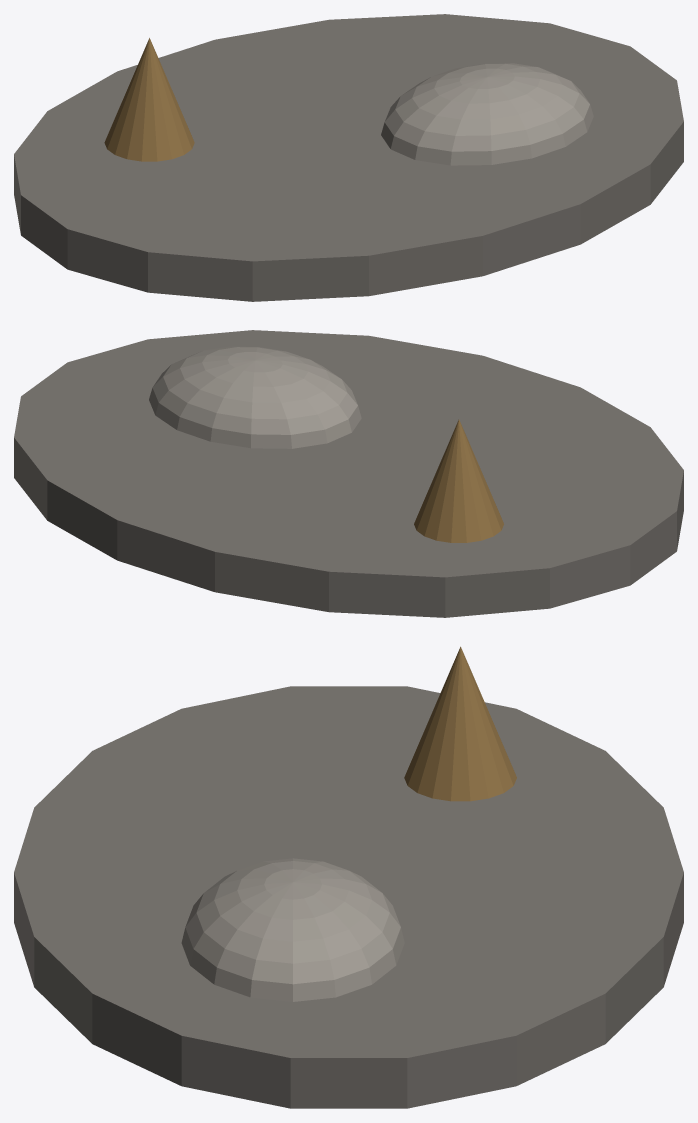
The model's file is ashes.b165f2fb.glb.
The picture shows the model from 3 angles, top to bottom: view 1: azimuth 30°, elevation 25°; view 2: azimuth 150°, elevation 25°; view 3: azimuth 270°, elevation 25°; orthographic projection. The views are drawn at different scales.
Visible parts, largest first — view 1: body; view 2: body; view 3: body.
Part boxes in pixels (bbox=[...]): body: bbox=[14, 14, 683, 301]; body: bbox=[14, 330, 683, 617]; body: bbox=[14, 646, 683, 1108].
Size of the model in its own units: 0.7878 by 0.19 by 0.6.
